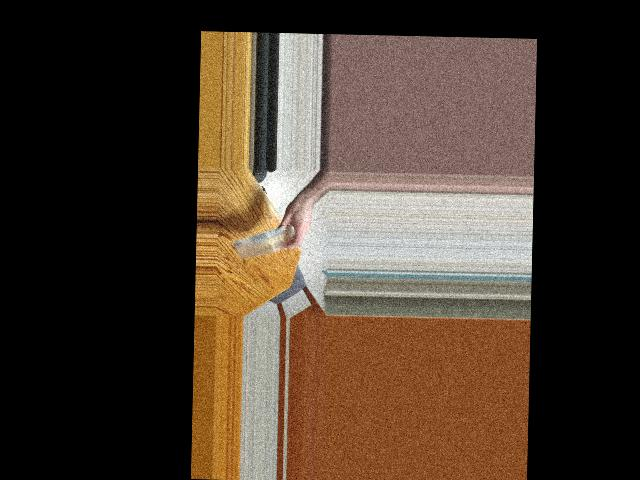cheese: (232, 230, 300, 256)
